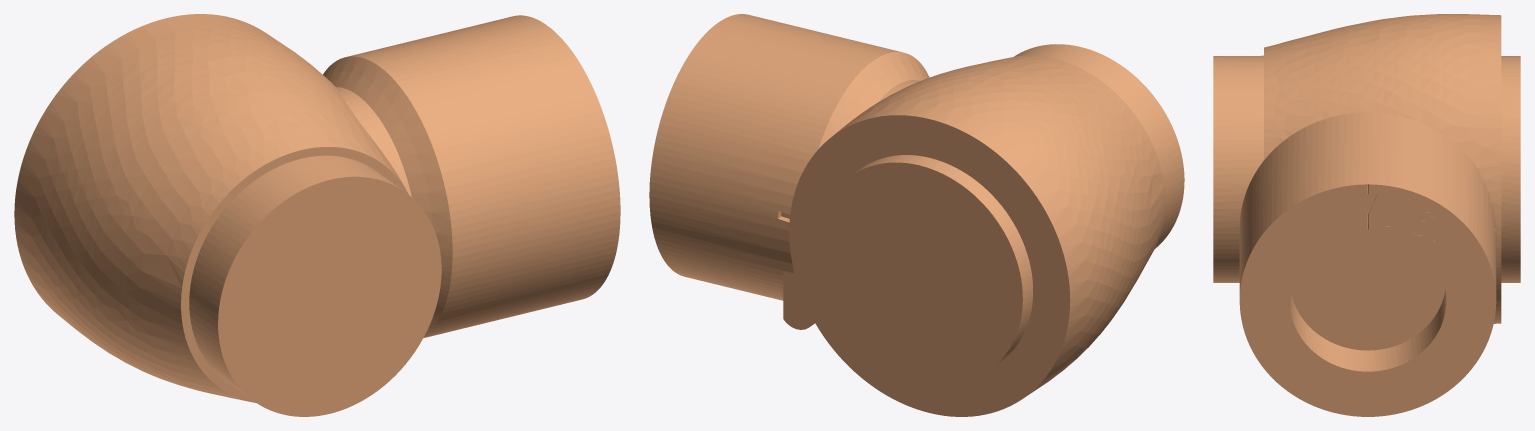
The picture shows the model from 3 angles, left to right: view 1: azimuth 30°, elevation 25°; view 2: azimuth 150°, elevation 25°; view 3: azimuth 270°, elevation 25°; orthographic projection. The views are drawn at different scales.
Parts seen in each view (by area): view 1: link_5; view 2: link_5; view 3: link_5.
Part boxes in pixels (<box>): link_5: <box>14,14,620,416</box>; link_5: <box>649,14,1184,416</box>; link_5: <box>1213,14,1520,416</box>.
Size of the model in its own units: 0.119 by 0.0785 by 0.0794.
